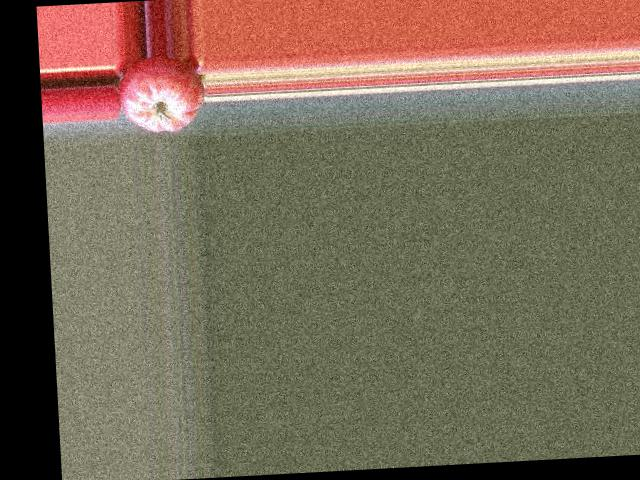tomato: (117, 53, 207, 134)
